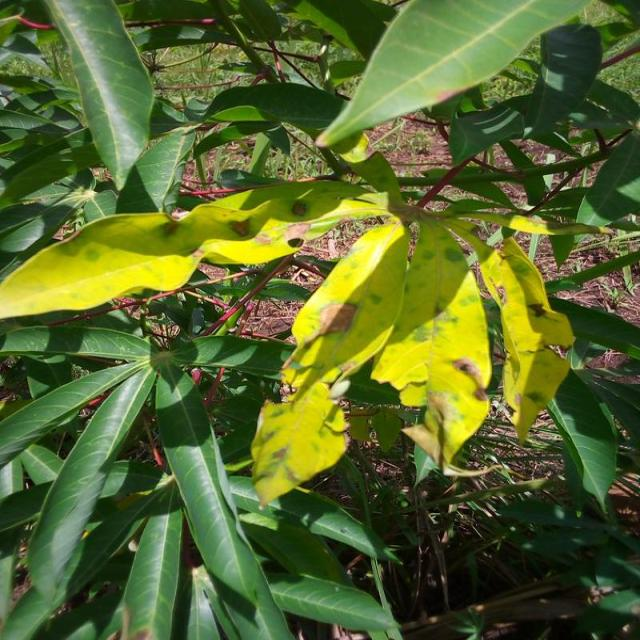cassava leaf: (0, 173, 394, 320), (314, 0, 592, 153), (44, 0, 154, 191)
